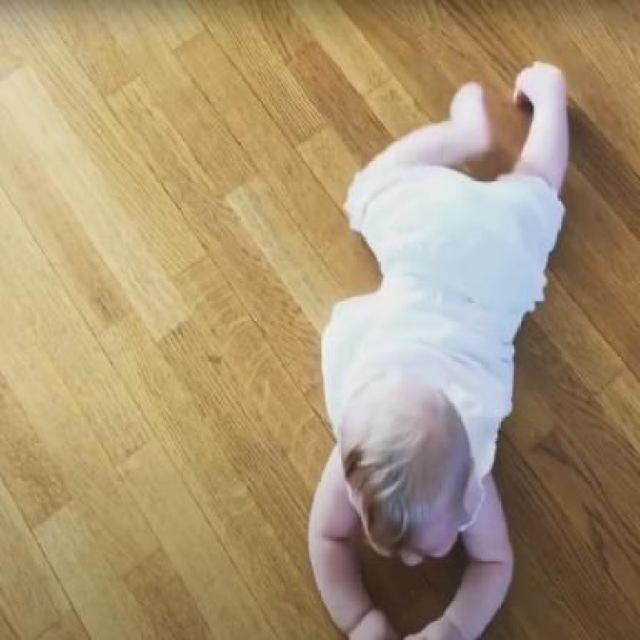baby: (302, 59, 570, 638)
